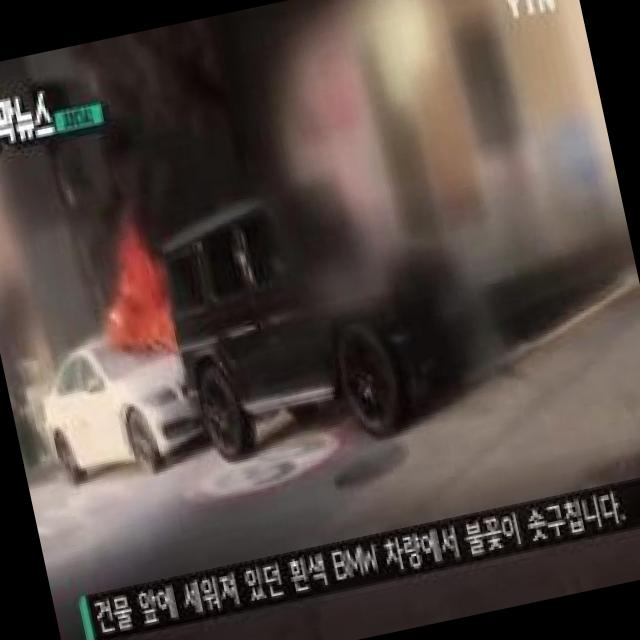Fire: (77, 198, 190, 368)
